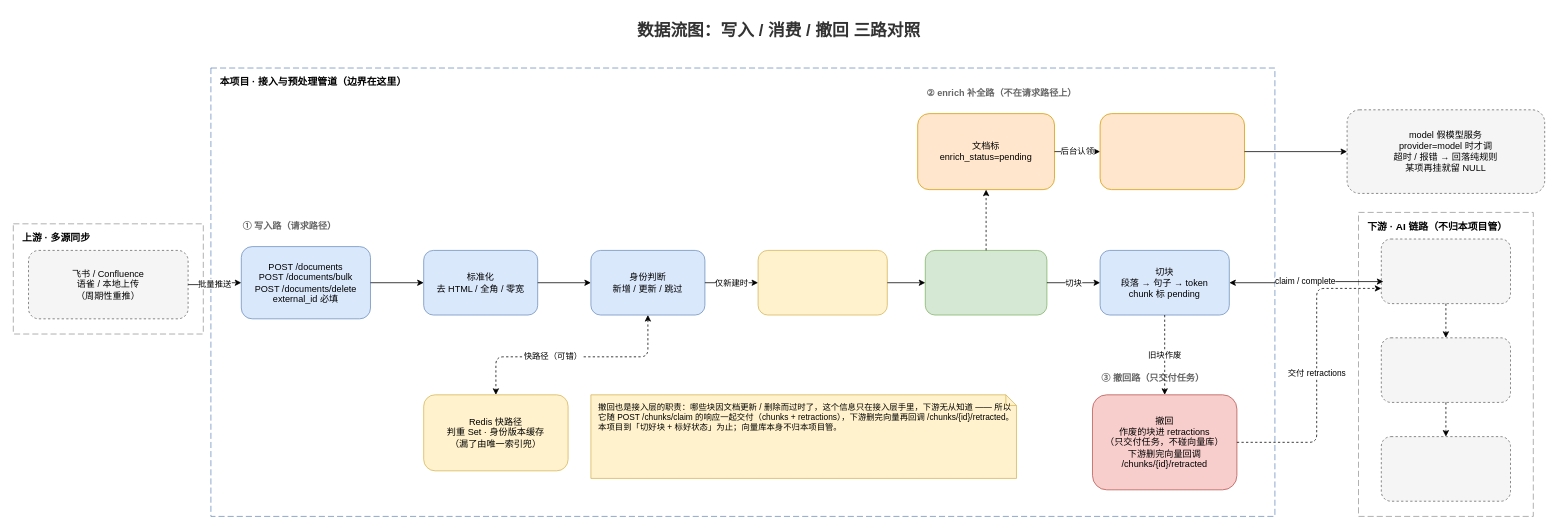
The diagram is 1558 pixels wide and 530 high, and some of its shapes have lost their labels. The shapes that lost their labels are listed below. From the top down, each one's centre as x and y in pixels, then its label:
At (x=1171, y=151): "后台 enrich 循环 认领 → 补全 → 写回 clean 写回 doc_type / tags / ai_summary / language".
At (x=822, y=282): "内容准入（仅新建） content_hash 唯一索引".
At (x=986, y=282): "落库 raw → clean（版本）→ dedup".
At (x=1445, y=271): "embedder 认领 （SKIP LOCKED）".
At (x=1445, y=369): "向量库 每个 chunk 一条向量".
At (x=1445, y=468): "RAG 检索 / 问答".
